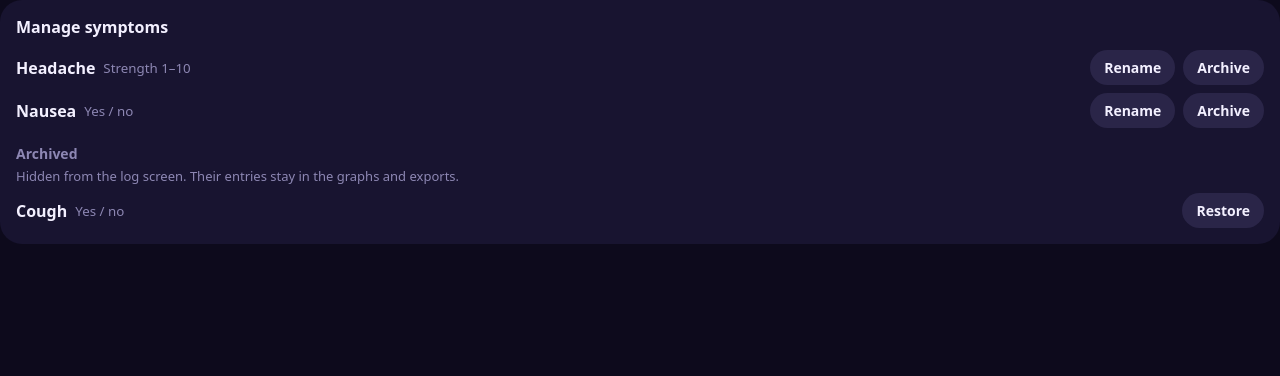
Scenario: ManageSymptomsCard › renames a symptom and stores the new name
The width and height of the screenshot is (1280, 376).
Expected: the text "Headache" is shown, [16,56,95,78]
Click the button with aria-label "Rename Headache" at (1133, 68), box [1090,50,1175,85]
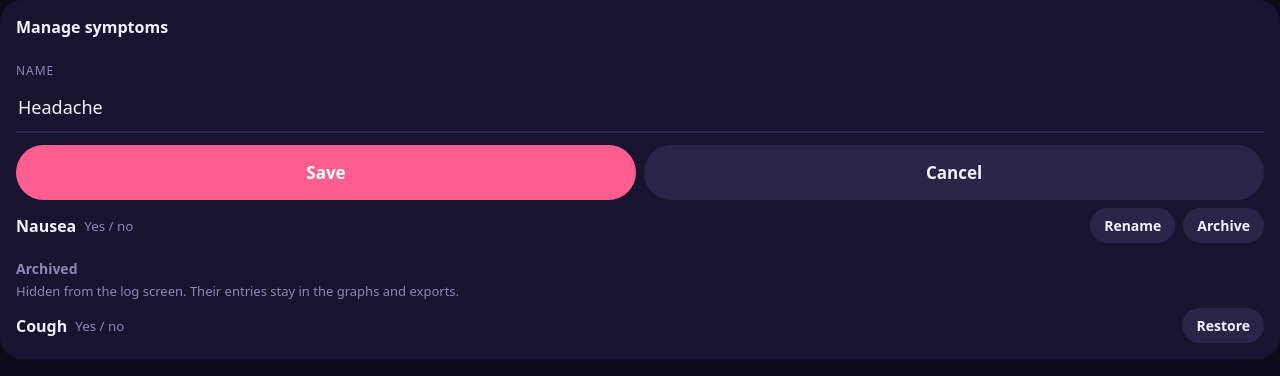
Replace the text in the field labelled "Name" with "Migraine" at (640, 108), box [16,83,1264,133]
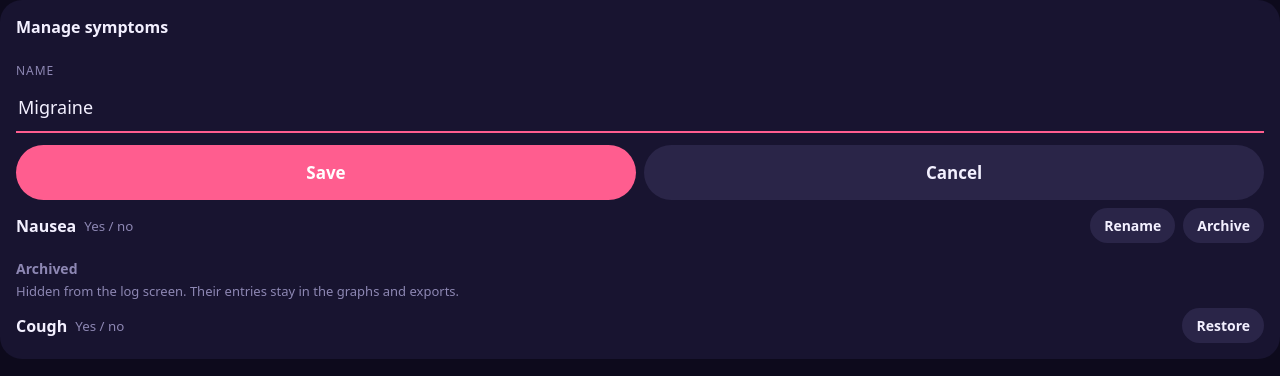
Click the button "Save" at (326, 172), box [16,145,636,200]
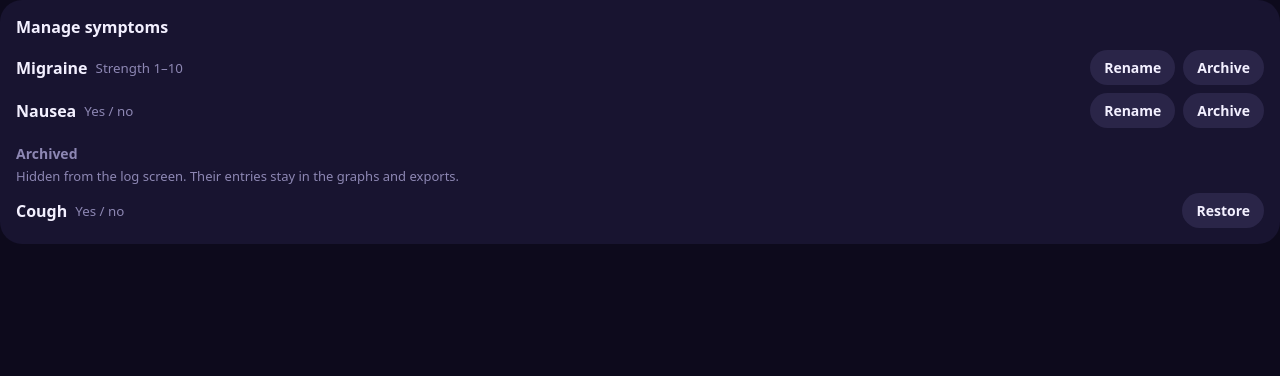
Expected: the text "Headache" is not shown
Result: the text "Migraine" is shown at [16,56,88,78]
